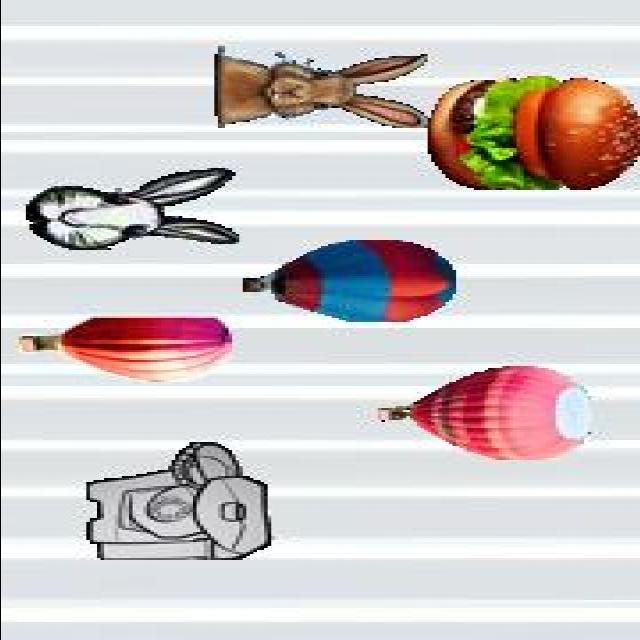Other Objects: (427, 76, 640, 190), (84, 439, 273, 562), (378, 366, 596, 462), (238, 239, 458, 322), (19, 317, 232, 381)
